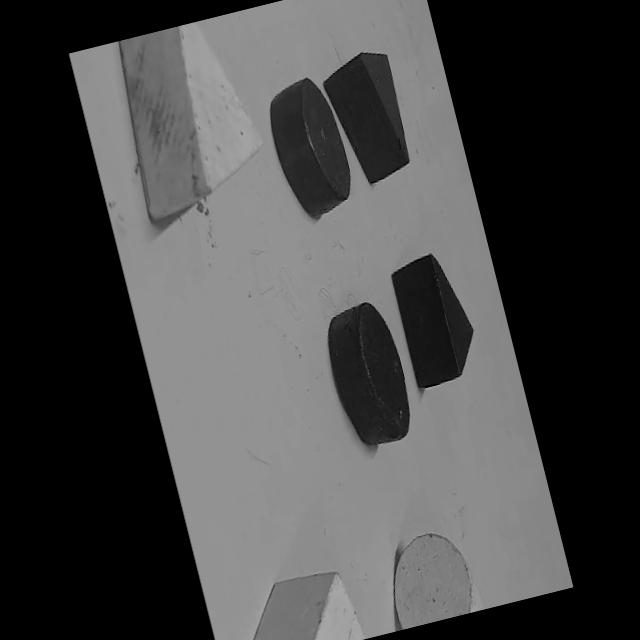bcircle: (317, 296, 419, 452)
btriangle: (384, 241, 486, 394)
rcircle: (260, 70, 360, 224)
rtriangle: (315, 42, 418, 191)
ycircle: (378, 522, 484, 628)
ycube: (221, 564, 361, 640)
ytriangle: (104, 14, 277, 231)
